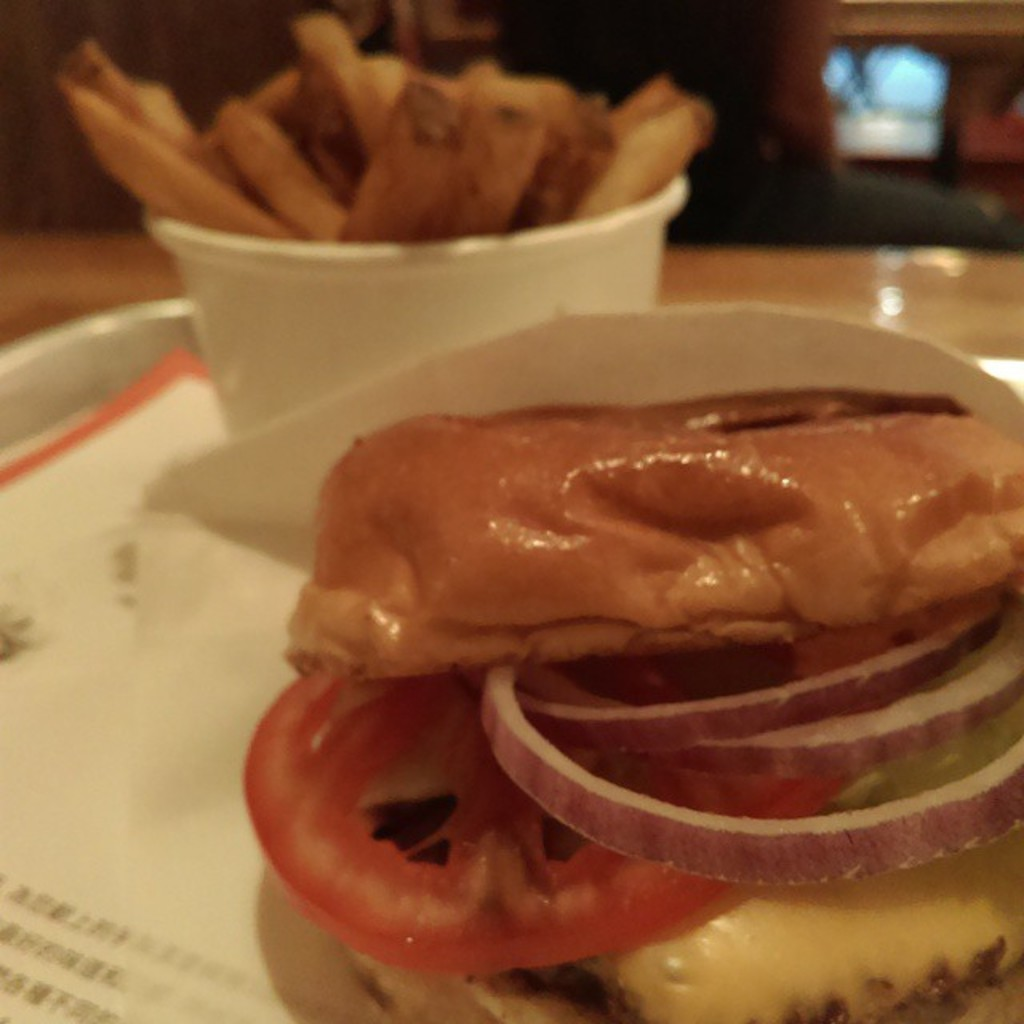French fries: (57, 91, 297, 233), (336, 76, 464, 240), (568, 80, 716, 220), (216, 94, 340, 238), (289, 0, 385, 177), (427, 91, 536, 243), (515, 92, 615, 233), (132, 67, 240, 193), (59, 38, 161, 142), (457, 54, 604, 112)
